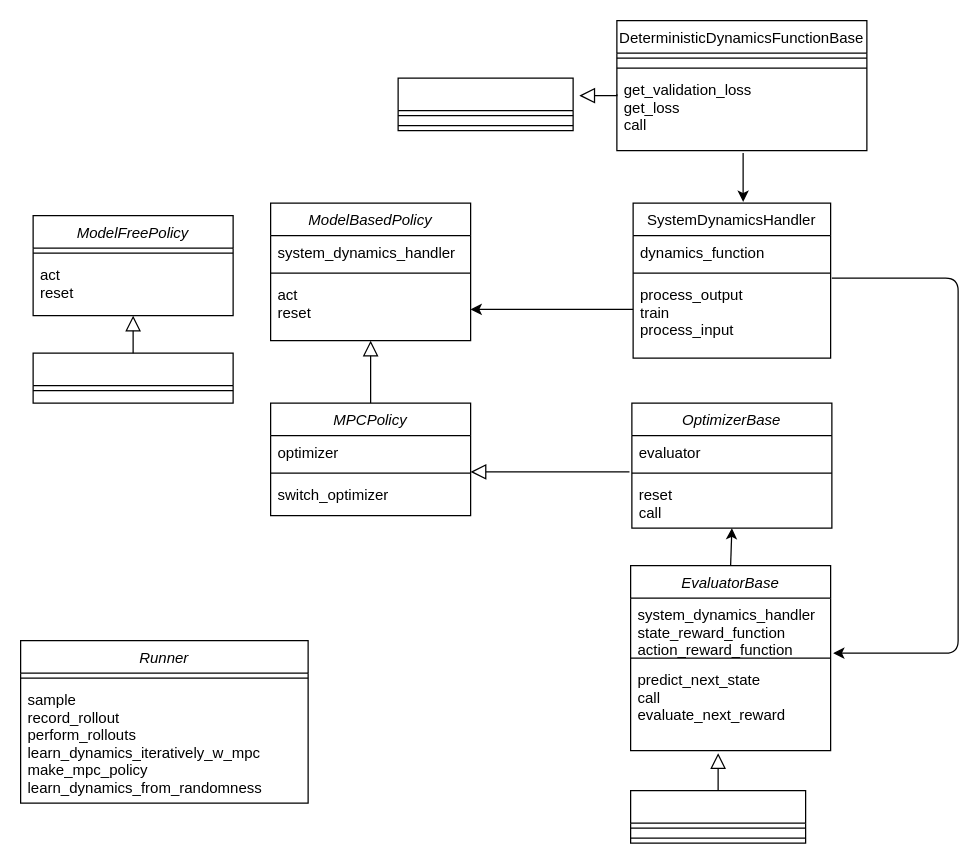
Some shapes in this 979 by 864 pixel diagram are drawn without their labels. The centre of each missing label's shape, as x and y in pixels:
"DeterministicEvaluator" belongs at [717,816].
"DeterministicMLP" belongs at [485,104].
"RandomPolicy" belongs at [132,377].
